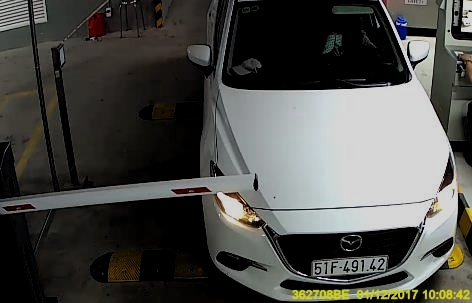plate: (310, 255, 388, 276)
